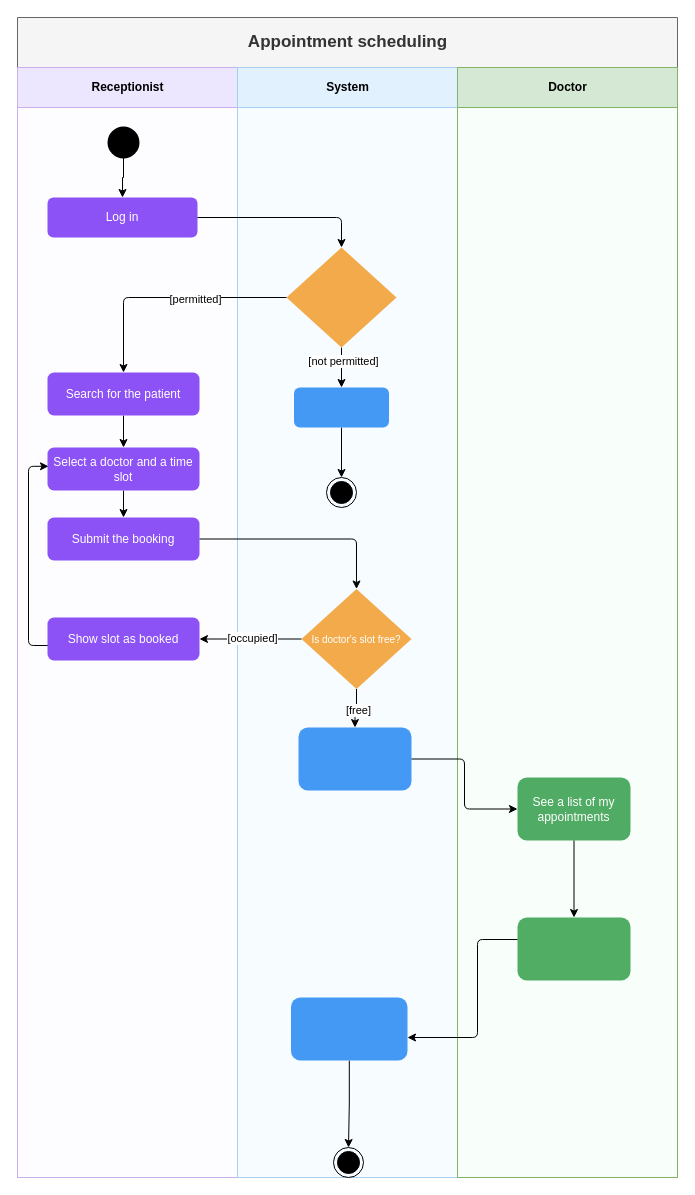
Some shapes in this 695 by 1195 pixel diagram are drawn without their labels. The centre of each missing label's shape, as x and y in pixels:
"Has permission for booking?" goes at [341,297].
"Mark the appointment as done (status: completed)" goes at [348,1028].
"Save the appointment (status: scheduled)" goes at [354,758].
"See a patient, then record the notes and the diagnosis" goes at [573,948].
"Show access denied" goes at [341,407].
